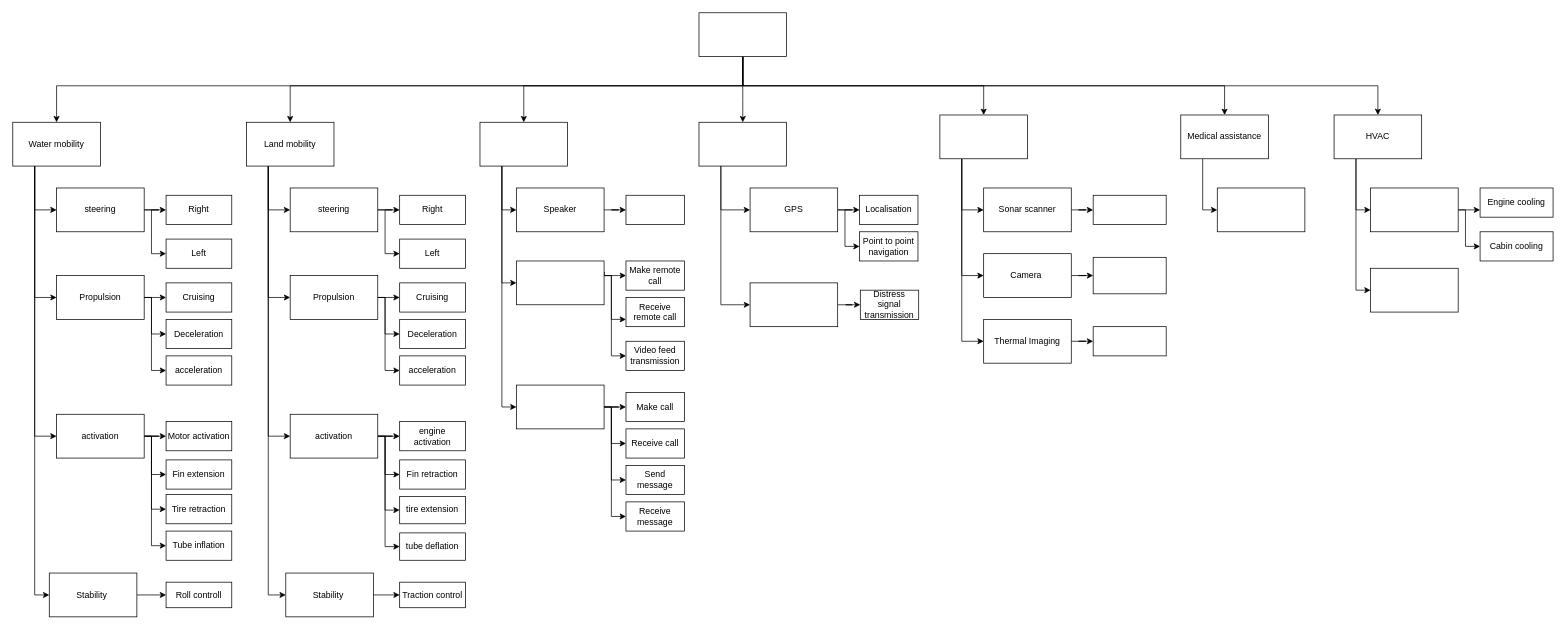
Image size: 1566x630. Some labels were removed from this diagram. The shapes that lost their labels are listed below. From the top down, each one's centre as x and y in pixels, then its label:
pixel 742 34: Rescue bot
pixel 523 144: Communication
pixel 742 144: Navigation & tracking
pixel 983 136: SIte inspection
pixel 654 209: voice amplification
pixel 1129 209: under water floor inspection
pixel 1261 209: Defibrillator
pixel 1414 209: Cooling
pixel 560 282: Satelite communication
pixel 1129 275: Live video capturing
pixel 1414 290: Power supply
pixel 793 304: Rescue Beacon
pixel 1129 341: thermal source detection
pixel 560 406: GSM/ CDMA communication
